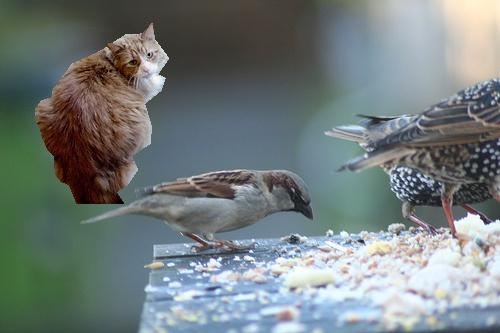tampered: (35, 24, 169, 204)
